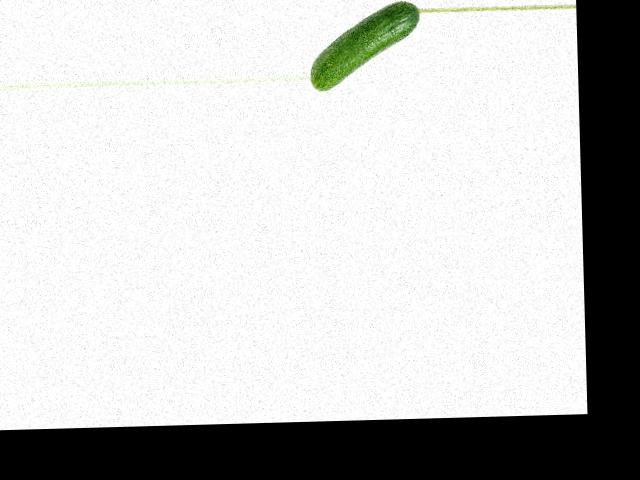cucumber: (307, 0, 422, 91)
